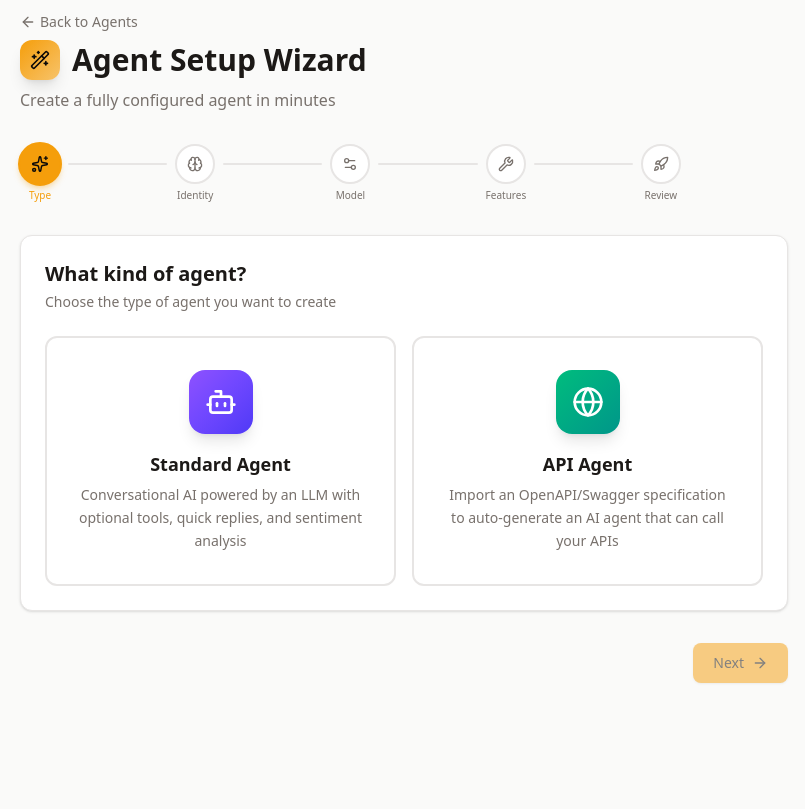
Test: AgentWizardPage › navigates Standard Agent to LLM step with provider selector
The image size is (805, 809).
Click the button with test id "type-standard". click: (220, 461)
box: [45,336,396,586]
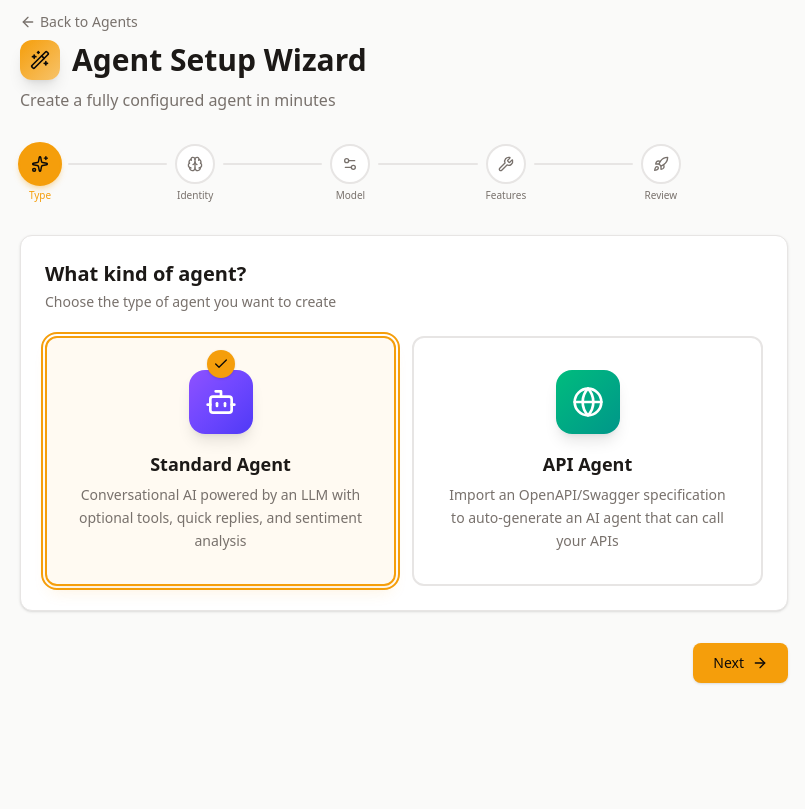
Click the button with test id "wizard-next". click: (741, 663)
box: [693,643,788,683]
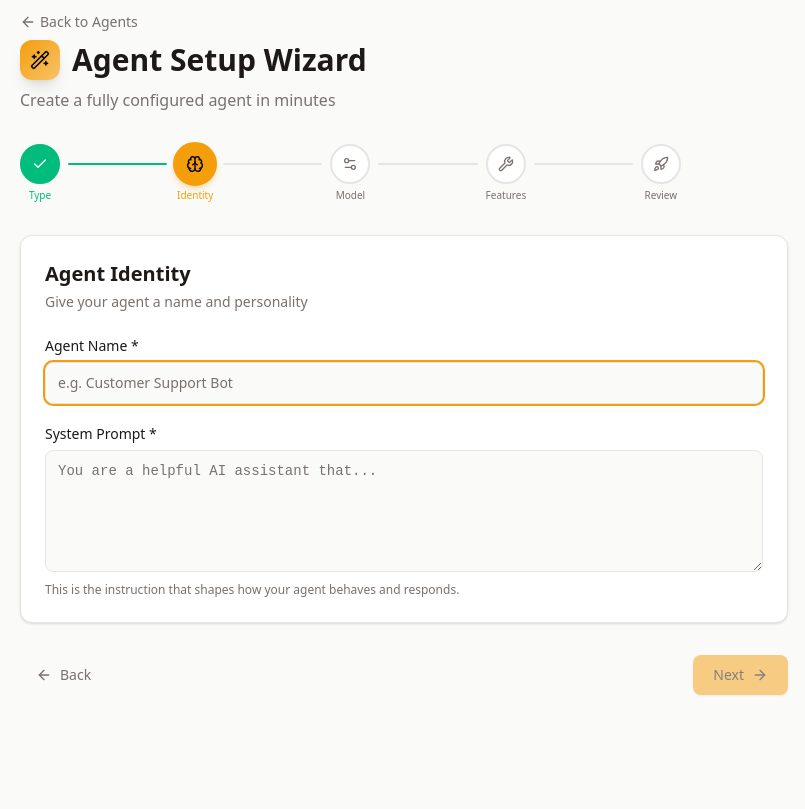
Type "Test Agent" into the field with test id "wizard-agent-name". click: (404, 383)
box: [45,362,763,404]
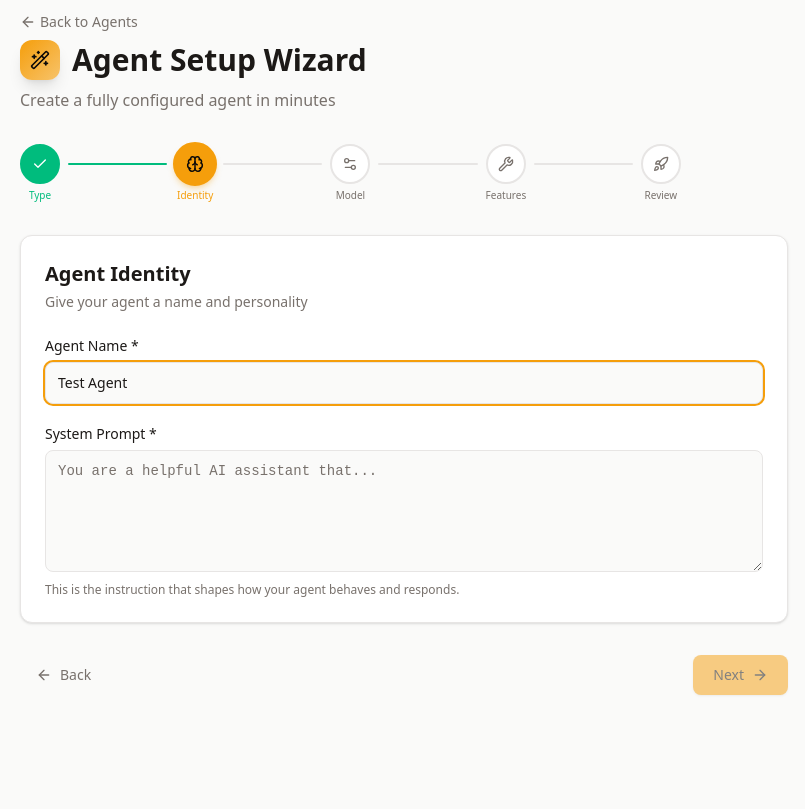
Type "You are helpful" into the text box with test id "wizard-system-prompt". click: (404, 511)
box: [45,450,763,572]
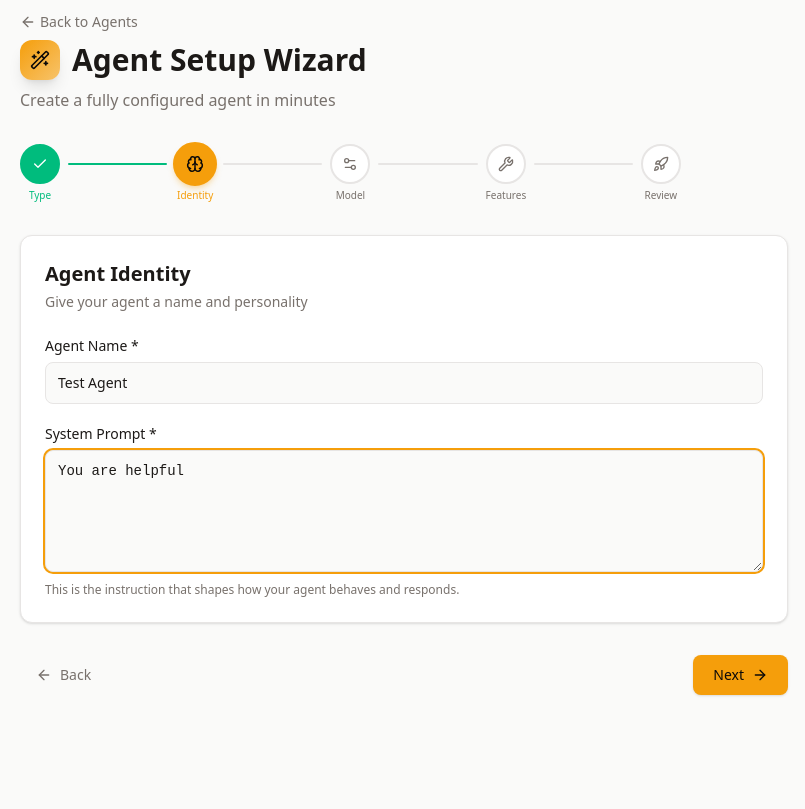
Click the button with test id "wizard-next". click: (741, 675)
box: [693,655,788,695]
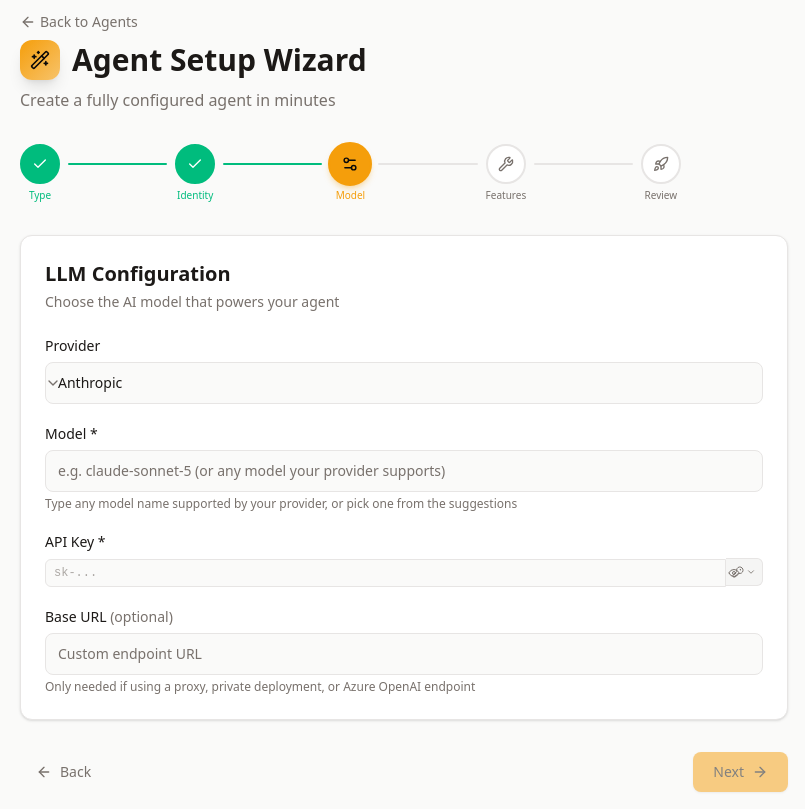
Check: the dropdown with test id "wizard-provider" is shown, box [45,362,763,404]
Check: the field with test id "wizard-model" is shown, box [45,450,763,492]
